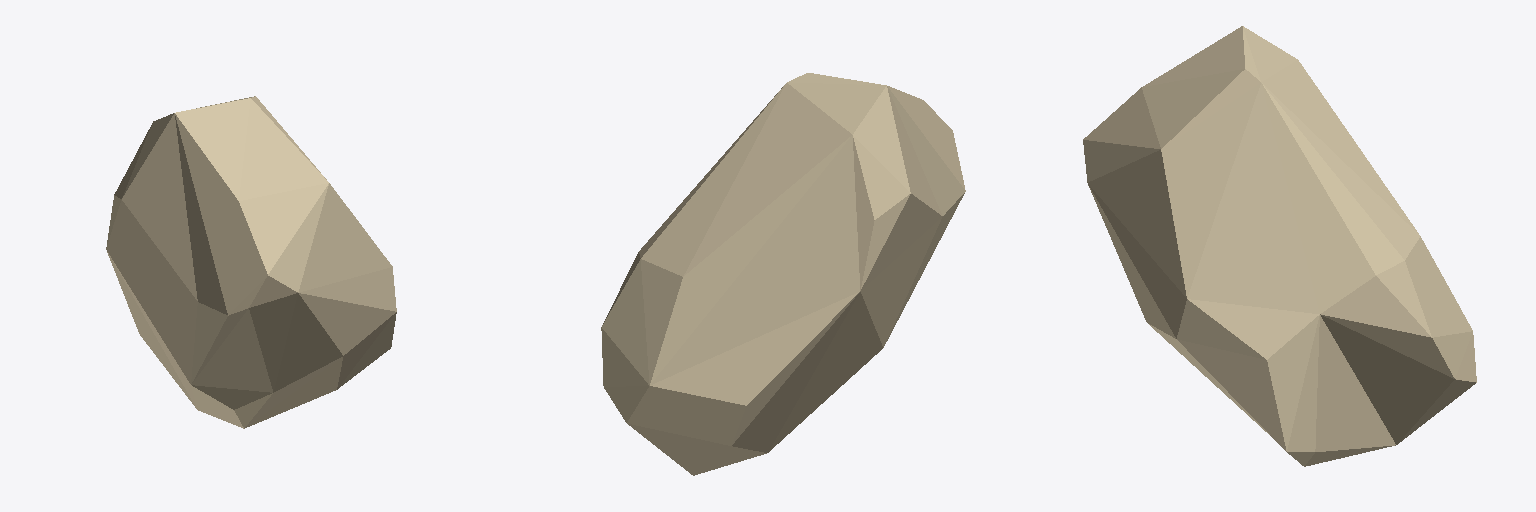
3 views of the same model, side by side, from view 1: azimuth 30°, elevation 25°; view 2: azimuth 150°, elevation 25°; view 3: azimuth 270°, elevation 25° (orthographic).
Visible parts, largest first — view 1: 突起物（右）; view 2: 突起物（右）; view 3: 突起物（右）.
Boxes of the visible parts, <box> form: 突起物（右）: <box>106,96,396,428</box>; 突起物（右）: <box>601,73,965,475</box>; 突起物（右）: <box>1083,26,1476,466</box>.
Size of the model in its own units: 0.6672 by 0.8339 by 0.821.
Materials: 1 (1 with a texture image).